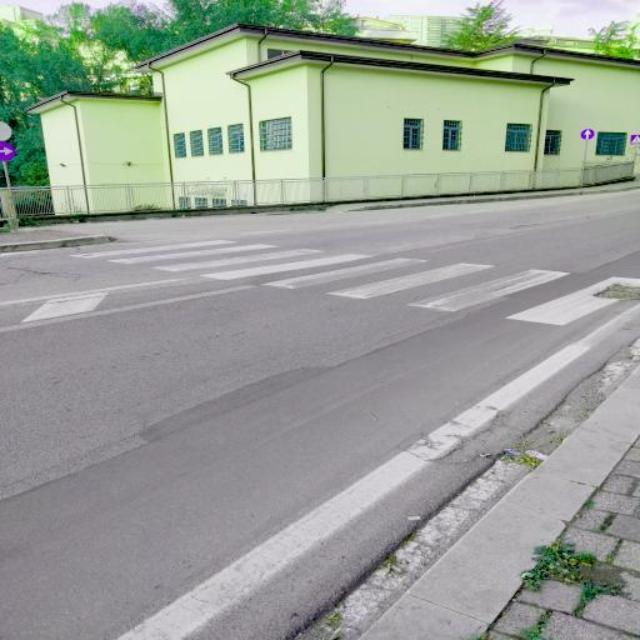sidewalk: (71, 228, 637, 336)
